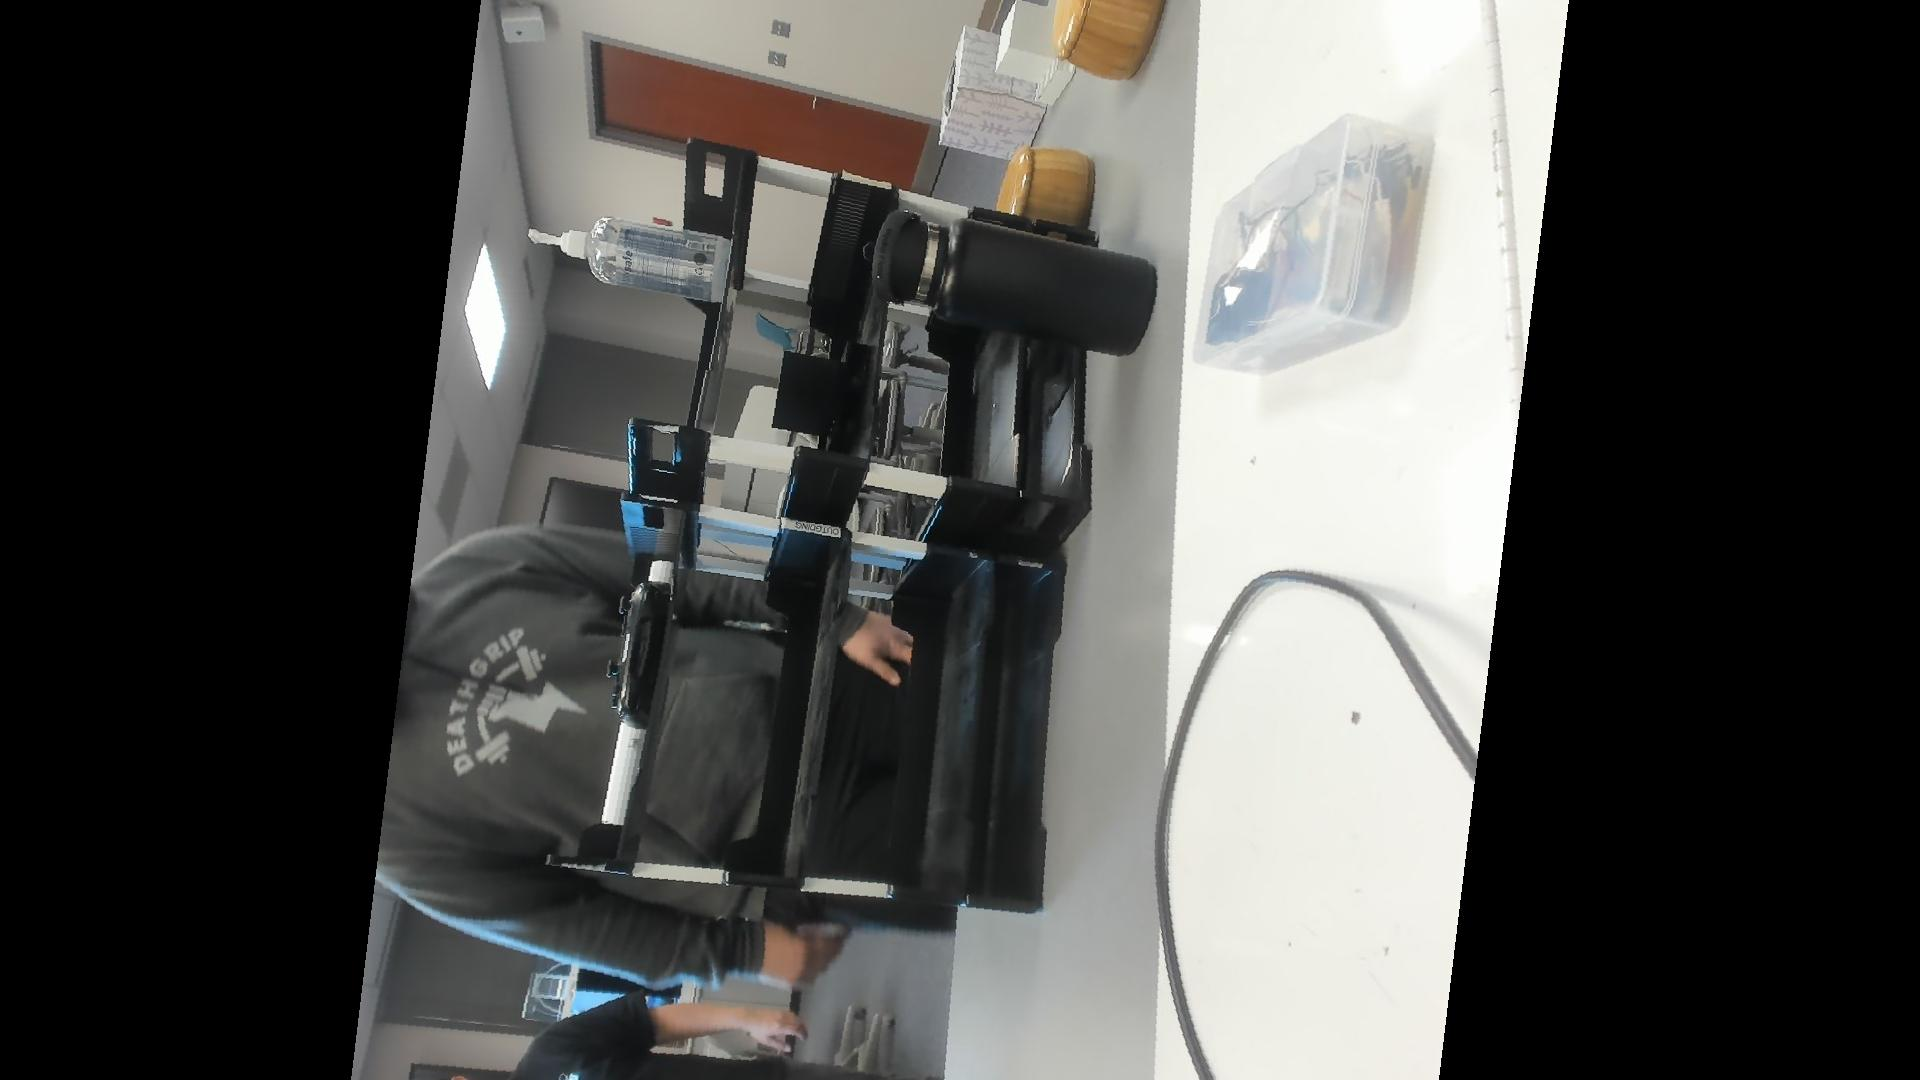black pallet: (767, 334, 880, 454)
white pallet: (986, 3, 1085, 113)
